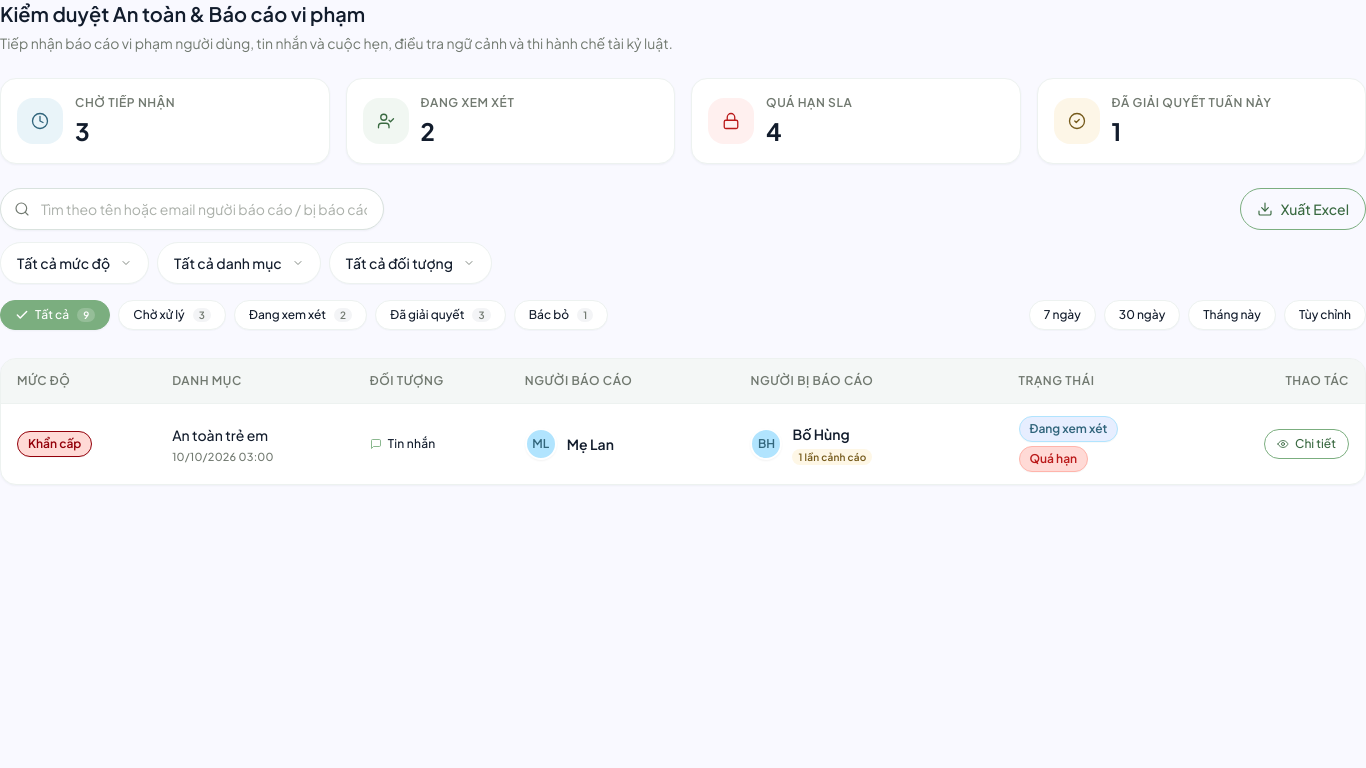
Test: AdminReportsPage › investigation drawer › footer › holds close, start and dismiss on a pending report
The width and height of the screenshot is (1366, 768).
Expected: the text "Bố Hùng" is shown, [792,425,850,443]
Click the button "Chi tiết": coordinates (1306, 444) [1264,429,1349,459]
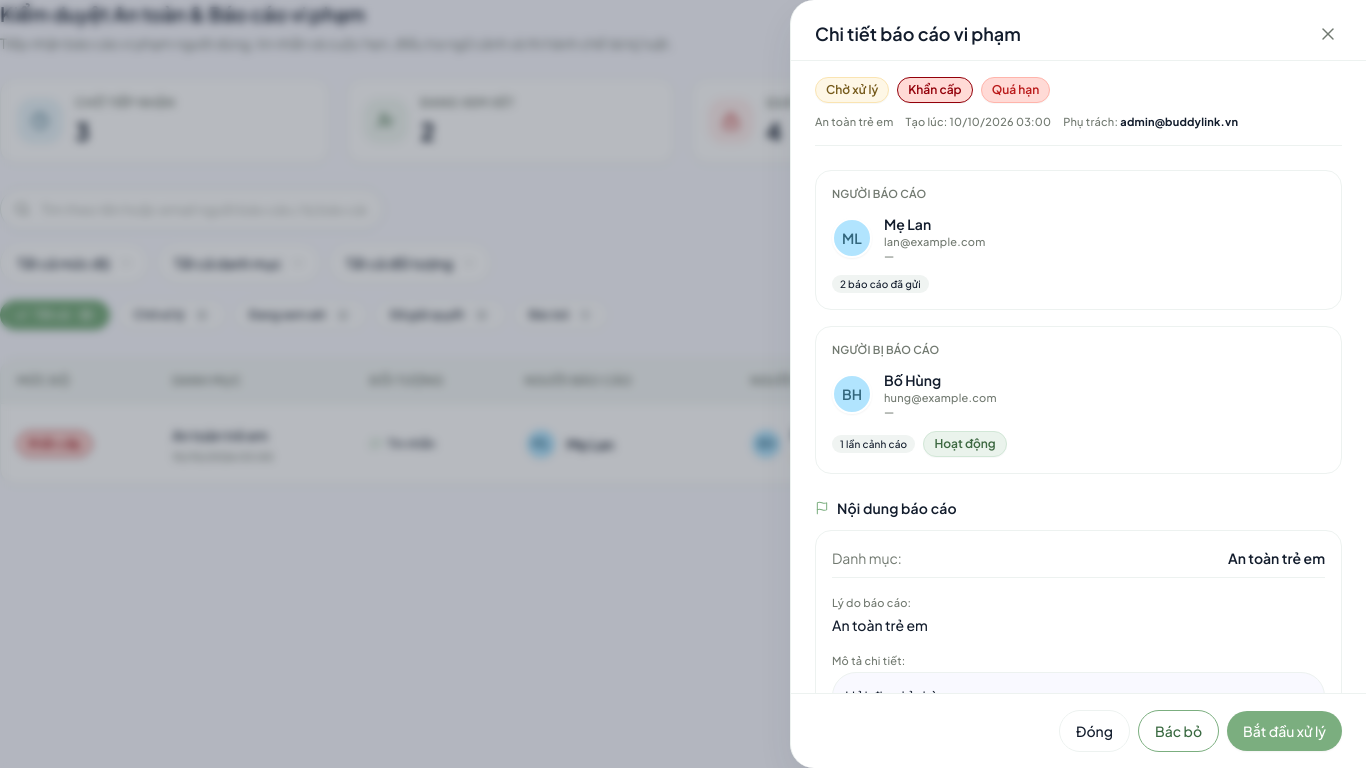
Now the heading "Chi tiết báo cáo vi phạm" is shown, box [815,20,1021,48]
